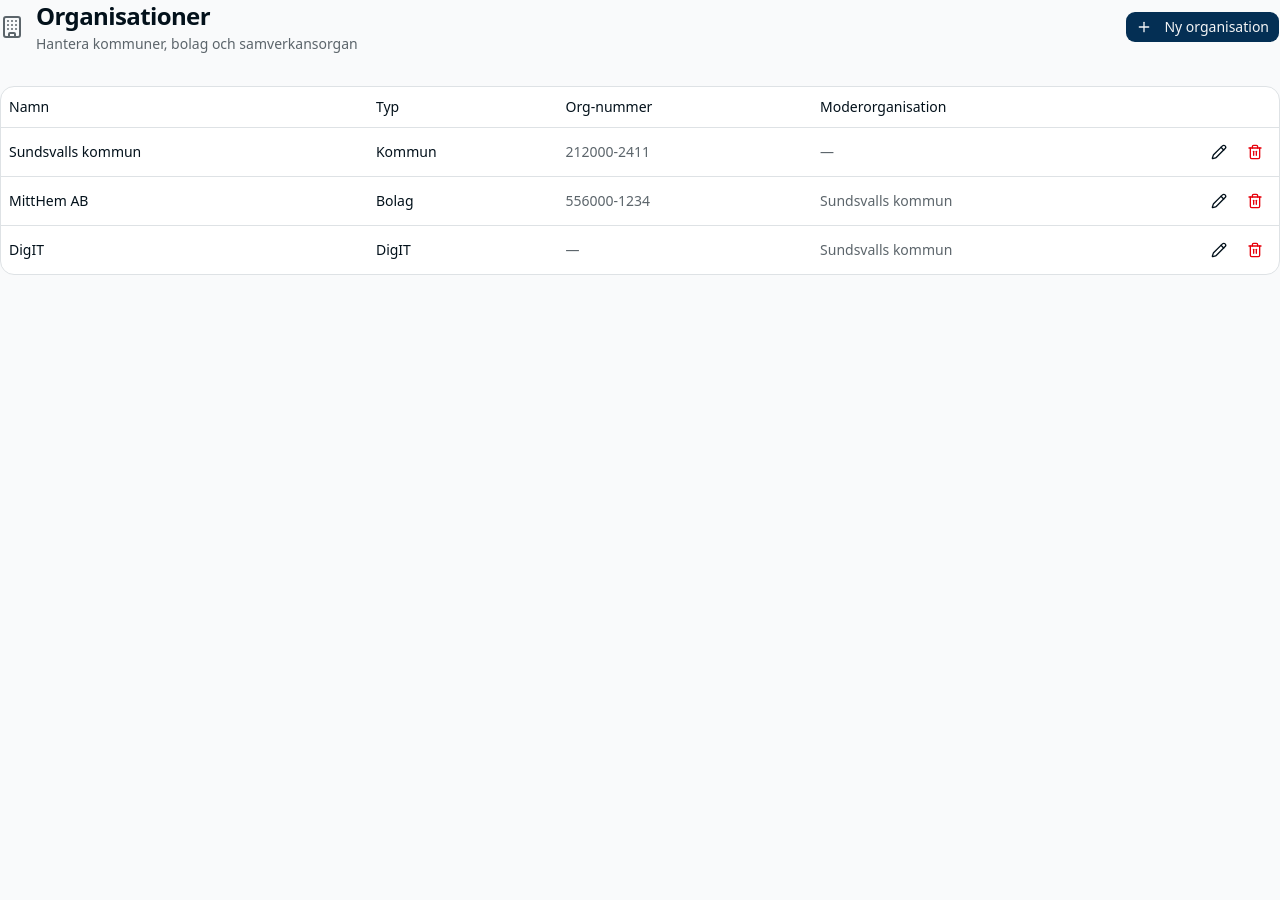
Scenario: OrganizationsPage › Skapa ny organisation › öppnar dialog vid klick på Ny organisation
The image size is (1280, 900).
Click the button "Ny organisation" at x=1203, y=27, box [1125,11,1279,43]
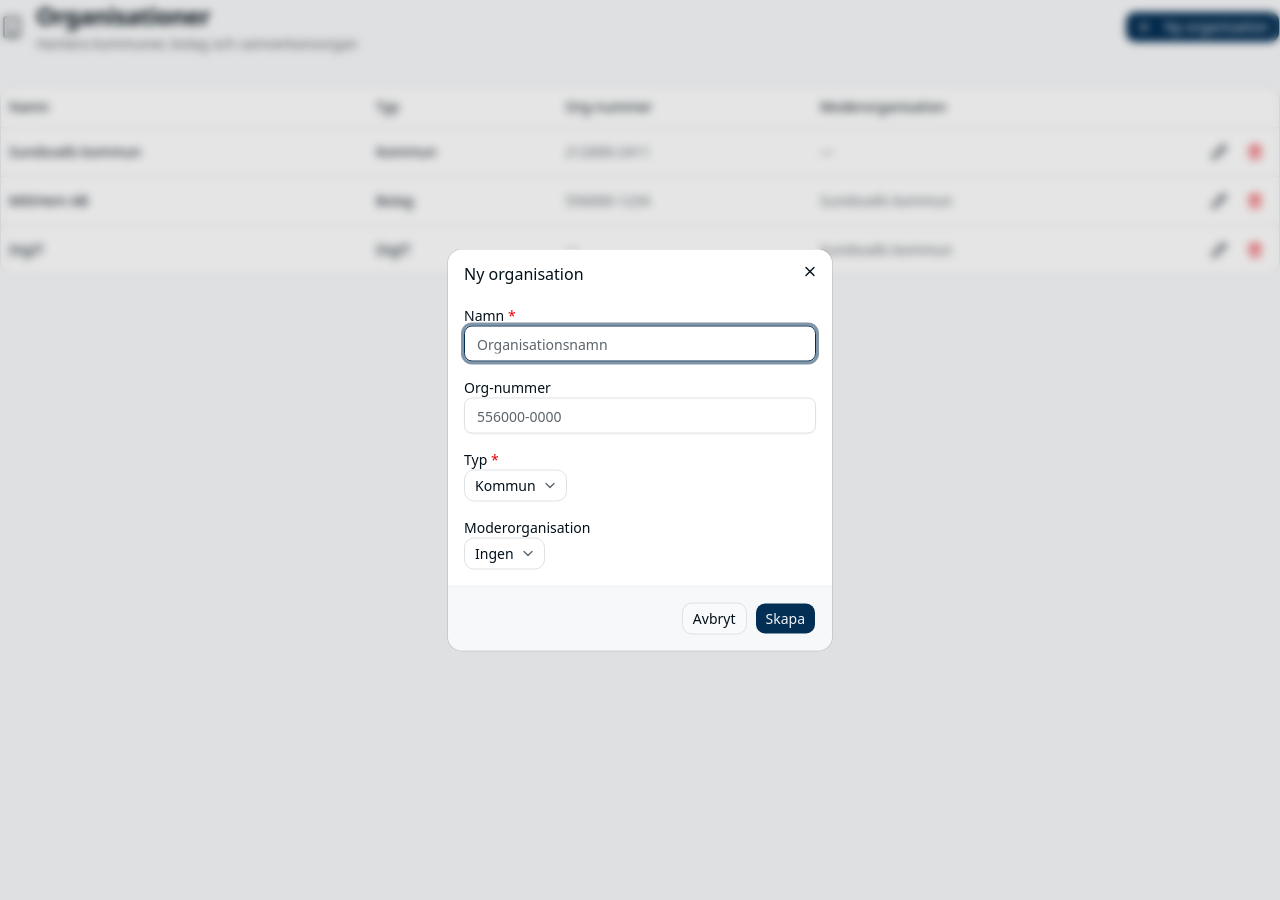
Expected: the heading "Ny organisation" is shown, [464,262,584,284]
